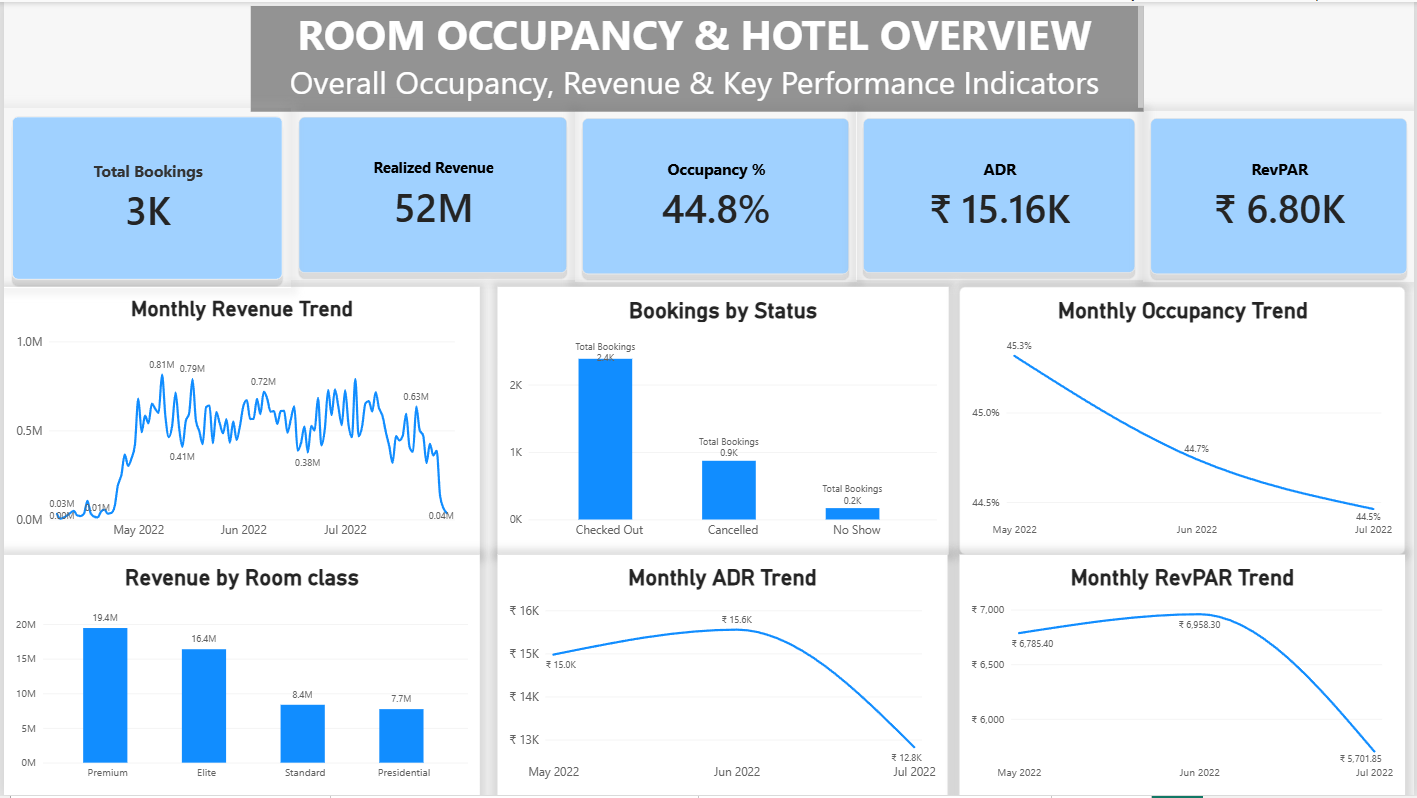

What the dashboard file says about the page in this screenshot:
{"tool":"powerbi","page":{"name":"room Occupancy and Hotel Overview","canvas":[1920,1080],"ordinal":0},"visuals":[{"type":"cardVisual","fields":{"Data":["fact_bookings.Realized Revenue"]},"box":[390.7,146.2,385.9,232.5],"z":0},{"type":"cardVisual","fields":{"Data":["fact_aggregated_bookings.Occupancy %"]},"box":[776.6,148.6,383.5,232.5],"z":1000},{"type":"cardVisual","fields":{"Data":["fact_bookings.ADR"]},"box":[1160.1,148.6,390.7,230.1],"z":2000},{"type":"cardVisual","fields":{"Data":["fact_bookings.RevPAR"]},"box":[1550.8,148.6,369.1,232.5],"z":3000},{"type":"textbox","box":[336,5.6,1215.2,143.7],"z":4000},{"type":"lineChart","title":"Monthly Revenue Trend","fields":{"Category":["fact_bookings.booking_date"],"Y":["fact_bookings.Realized Revenue"]},"box":[0,388.3,647.7,364],"z":5000},{"type":"clusteredColumnChart","title":"Bookings by Status","fields":{"Category":["fact_bookings.booking_status"],"Y":["fact_bookings.Total Bookings"]},"box":[672,388.3,614.1,364],"z":6000},{"type":"lineChart","title":"Monthly Occupancy Trend","fields":{"Category":["dim_date.mmm yy"],"Y":["fact_aggregated_bookings.Occupancy %"]},"box":[1301.1,388.3,606.7,364],"z":7000},{"type":"lineChart","title":"Monthly ADR Trend","fields":{"Category":["dim_date.mmm yy"],"Y":["fact_bookings.ADR"]},"box":[672,752.3,612.3,328.5],"z":8000},{"type":"lineChart","title":"Monthly RevPAR Trend","fields":{"Category":["dim_date.mmm yy"],"Y":["fact_bookings.RevPAR"]},"box":[1301.1,752.3,606.7,328.5],"z":9000},{"type":"clusteredColumnChart","title":"Revenue by Room class","fields":{"Category":["dim_rooms.room_class"],"Y":["fact_bookings.Realized Revenue"]},"box":[0,752.3,647.7,328.5],"z":11000},{"type":"cardVisual","fields":{"Data":["fact_bookings.Total Bookings"]},"box":[0,143.8,390.7,244.5],"z":15000}]}

Visuals, with their boxes in screenshot pixels (x1, y1, x2, y2), scaled from the page's 1920x1080 canvas onto the 1417x798 screenshot:
cardVisual - fact_bookings.Realized Revenue: {"x1": 288, "y1": 108, "x2": 573, "y2": 280}
cardVisual - fact_aggregated_bookings.Occupancy %: {"x1": 573, "y1": 110, "x2": 856, "y2": 282}
cardVisual - fact_bookings.ADR: {"x1": 856, "y1": 110, "x2": 1145, "y2": 280}
cardVisual - fact_bookings.RevPAR: {"x1": 1145, "y1": 110, "x2": 1416, "y2": 282}
textbox: {"x1": 248, "y1": 4, "x2": 1145, "y2": 110}
"Monthly Revenue Trend" lineChart: {"x1": 0, "y1": 287, "x2": 478, "y2": 556}
"Bookings by Status" clusteredColumnChart: {"x1": 496, "y1": 287, "x2": 949, "y2": 556}
"Monthly Occupancy Trend" lineChart: {"x1": 960, "y1": 287, "x2": 1408, "y2": 556}
"Monthly ADR Trend" lineChart: {"x1": 496, "y1": 556, "x2": 948, "y2": 797}
"Monthly RevPAR Trend" lineChart: {"x1": 960, "y1": 556, "x2": 1408, "y2": 797}
"Revenue by Room class" clusteredColumnChart: {"x1": 0, "y1": 556, "x2": 478, "y2": 797}
cardVisual - fact_bookings.Total Bookings: {"x1": 0, "y1": 106, "x2": 288, "y2": 287}
